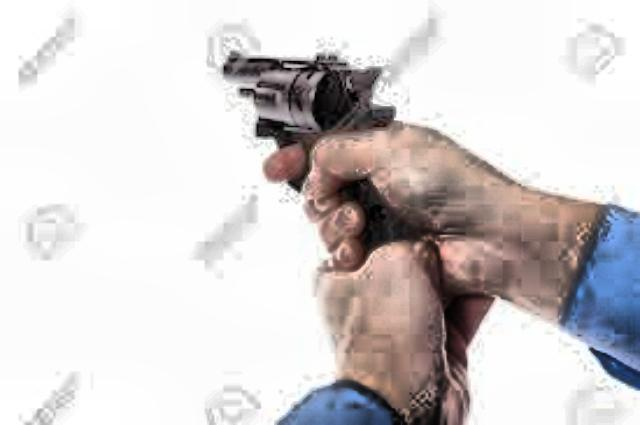pistol: (216, 44, 424, 252)
